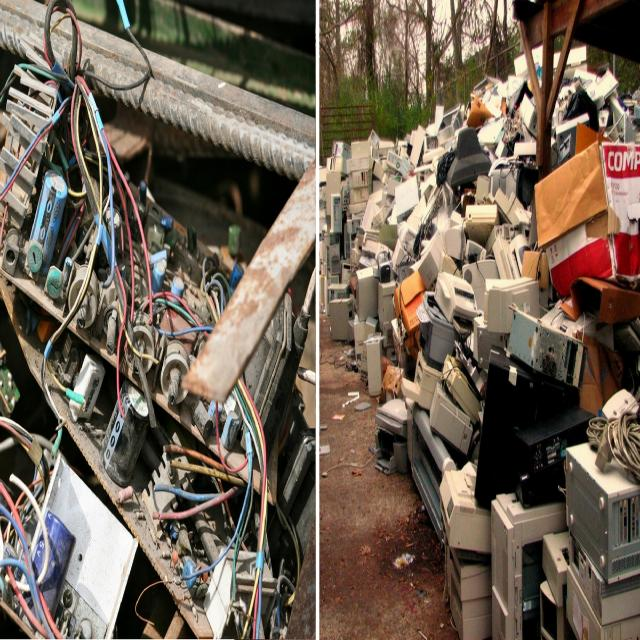heap: (12, 105, 316, 640), (395, 110, 639, 629)
